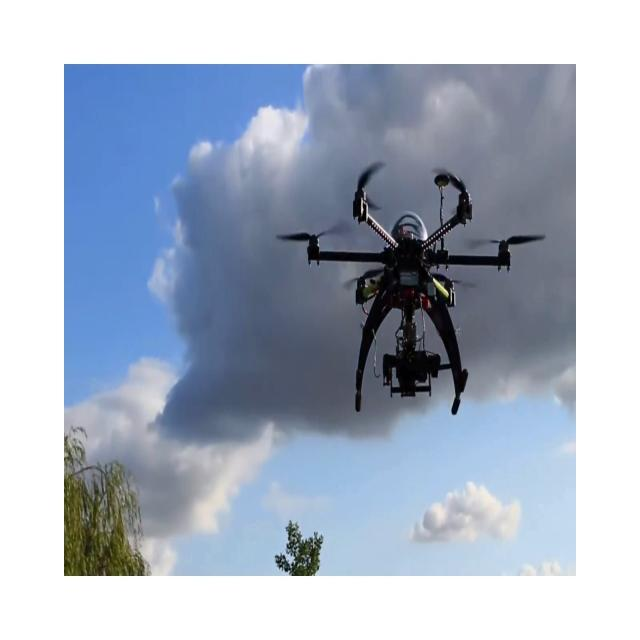drone: (275, 160, 546, 416)
